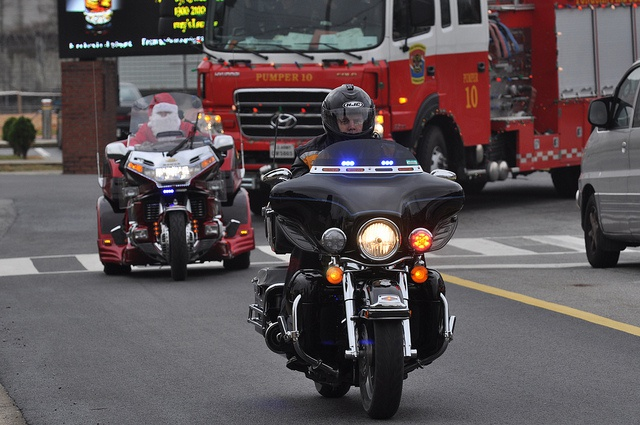non-vehicle: (250, 139, 466, 417), (94, 82, 260, 284)
